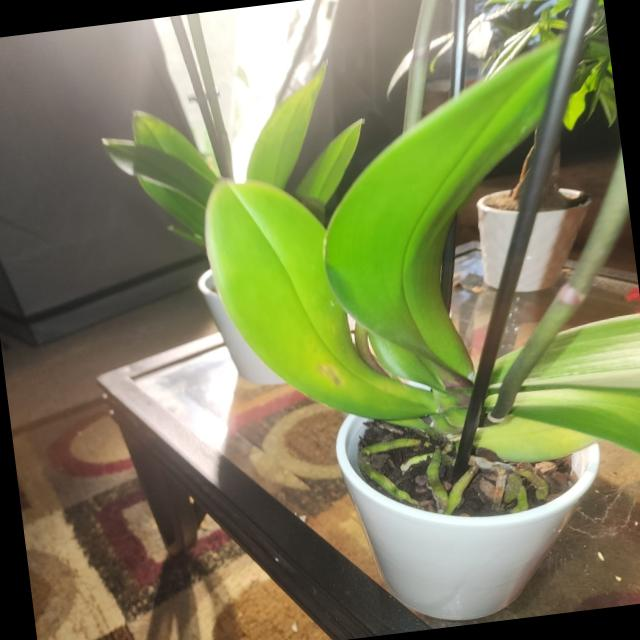leaf: (323, 44, 556, 377), (205, 180, 438, 418), (512, 384, 640, 453), (246, 74, 322, 187), (530, 314, 640, 384)
plant: (5, 0, 640, 640)
pot: (321, 375, 640, 638)
stem: (446, 463, 478, 511)
